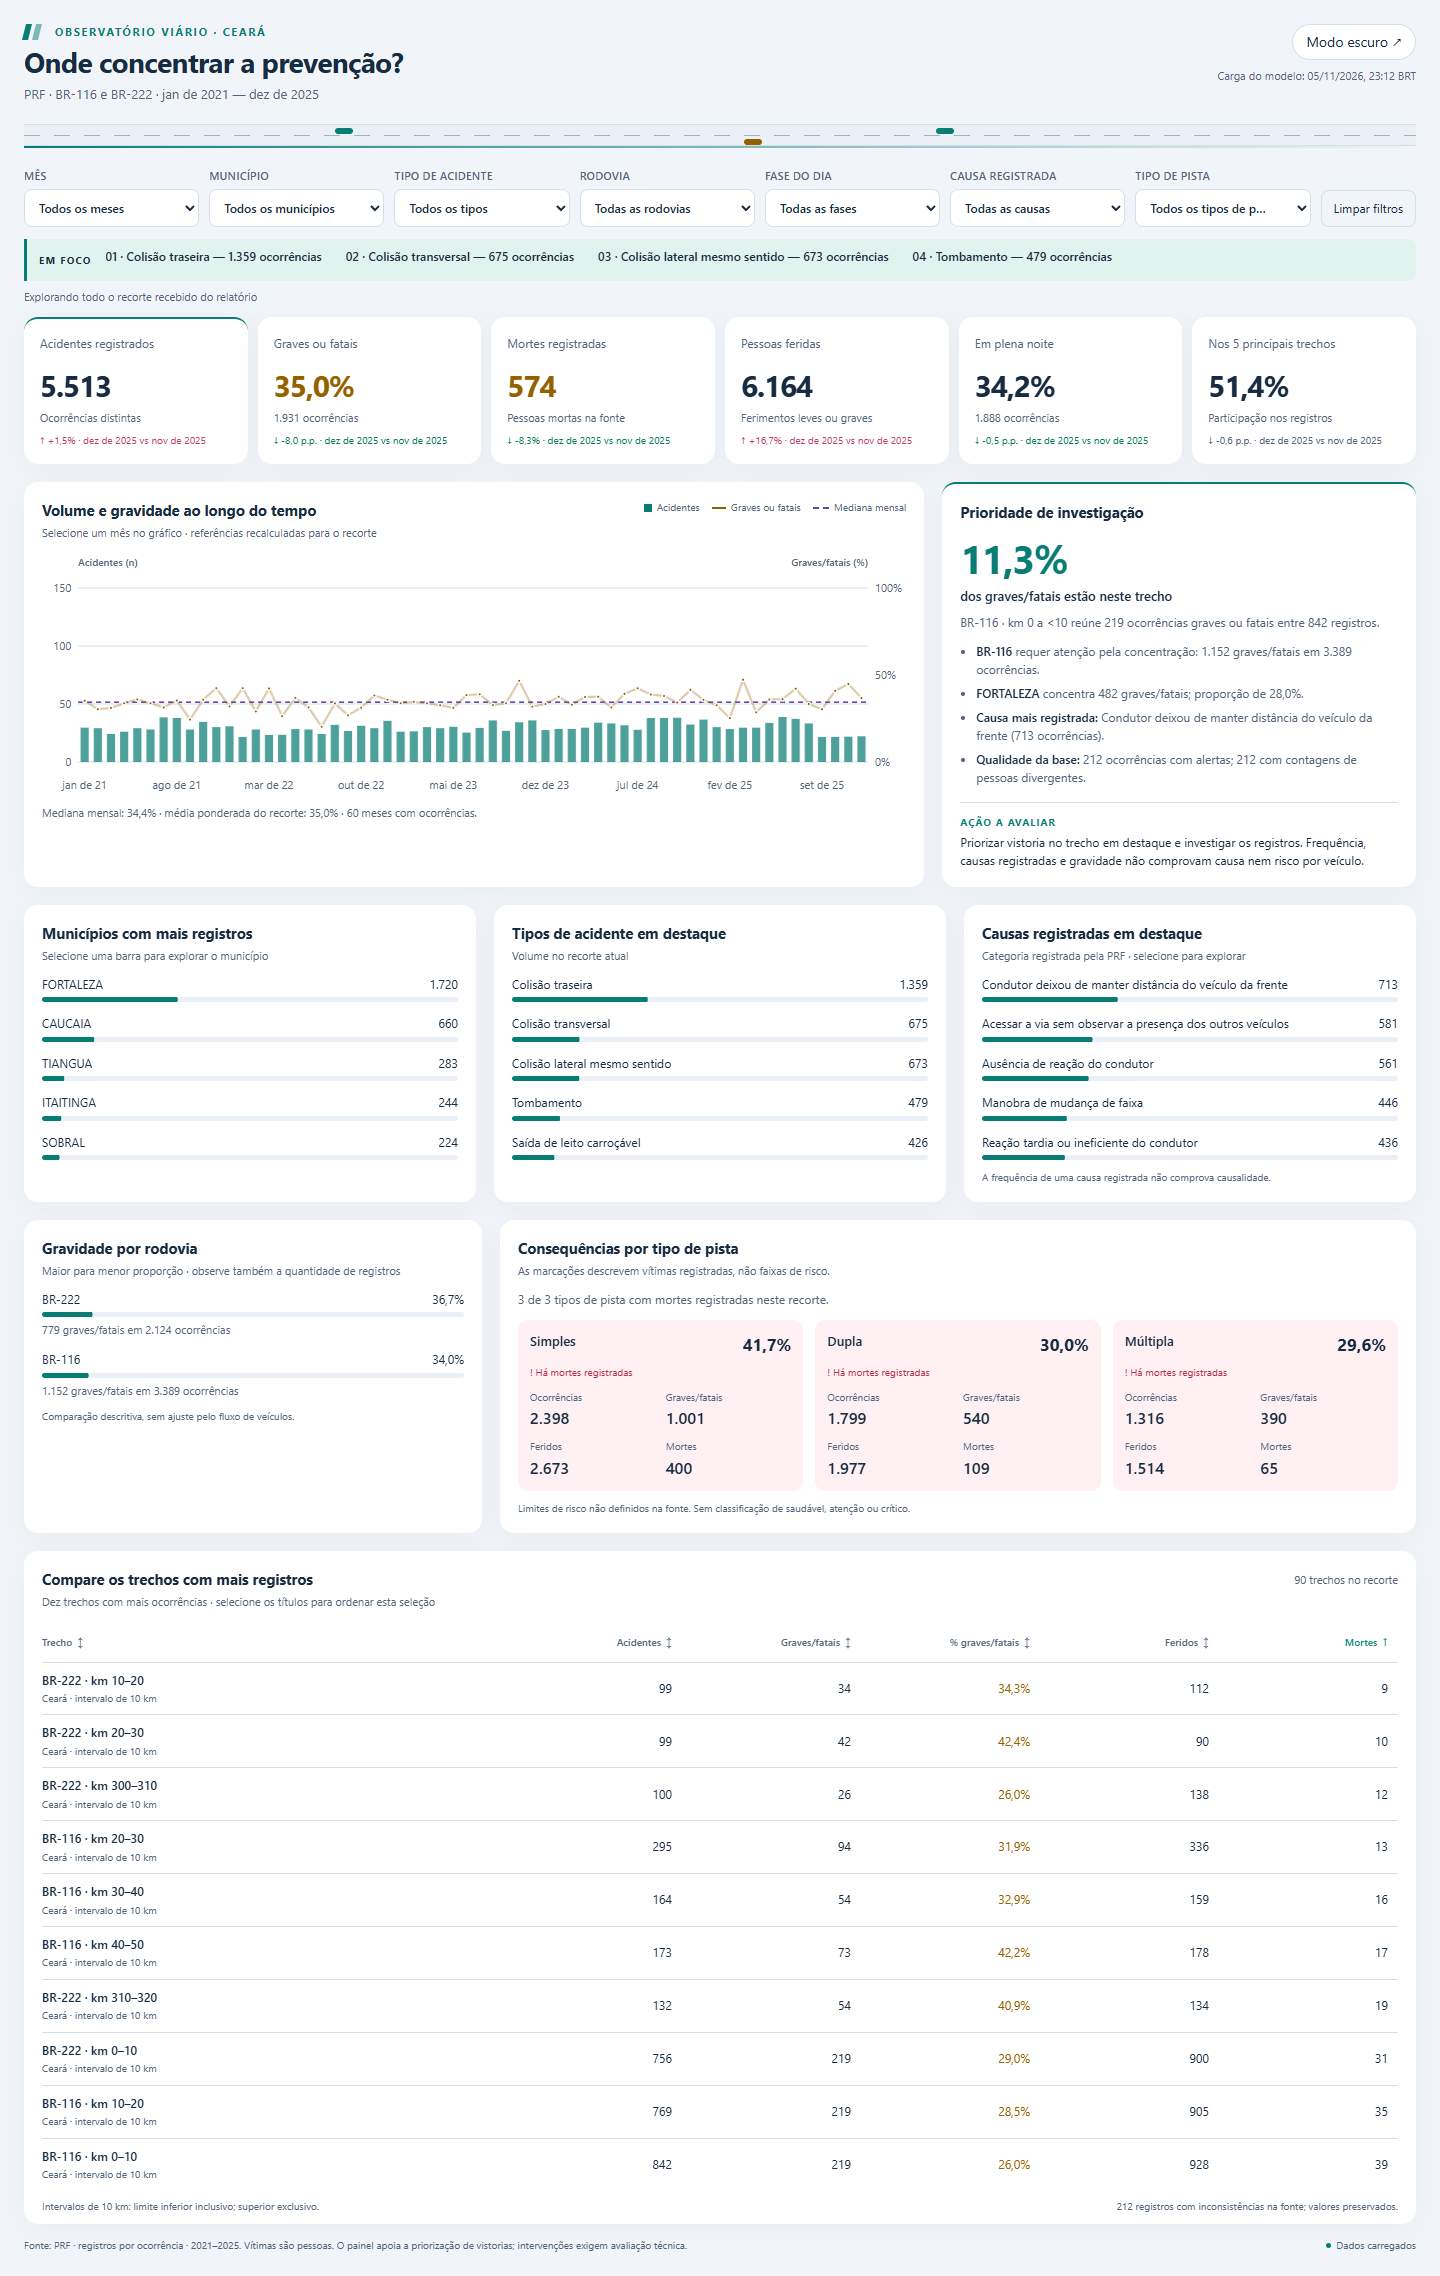

The dashboard page shown, as its layout file describes it:
{"tool":"powerbi","page":{"name":"Página 2","canvas":[1280,720],"ordinal":1},"visuals":[{"type":"htmlContent443BE3AD55E043BF878BED274D3A6855","fields":{"content":["fAcidentes.HTML Dashboard PRF"]},"box":[0,0,1279.8,720.2],"z":0}]}

Visuals, with their boxes on the page's 1280x720 design canvas (x1, y1, x2, y2). These are canvas units, not pixel positions in the 1440x2276 screenshot, which may show the page scaled, cropped or inside an application window:
htmlContent443BE3AD55E043BF878BED274D3A6855 - fAcidentes.HTML Dashboard PRF: x1=0, y1=0, x2=1280, y2=720
